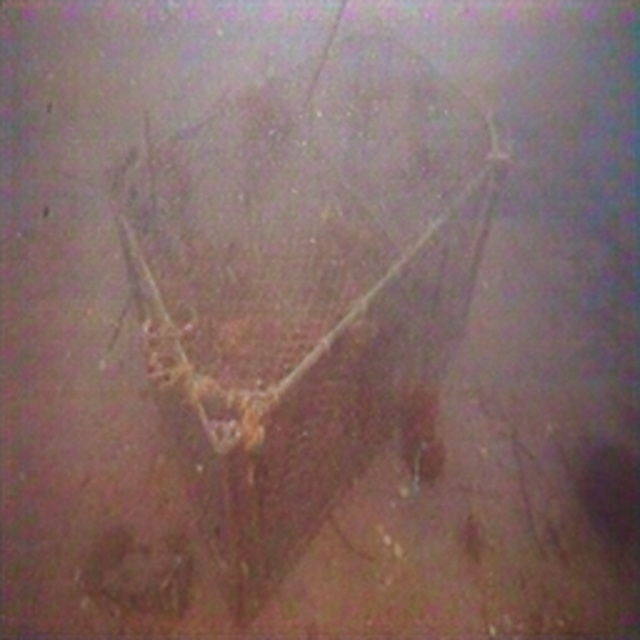mine: (105, 22, 512, 629)
